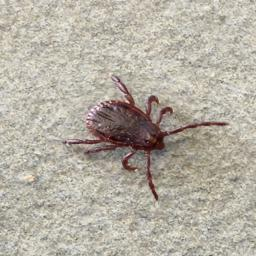Rhipicephalus sanguineus: (65, 75, 230, 201)
